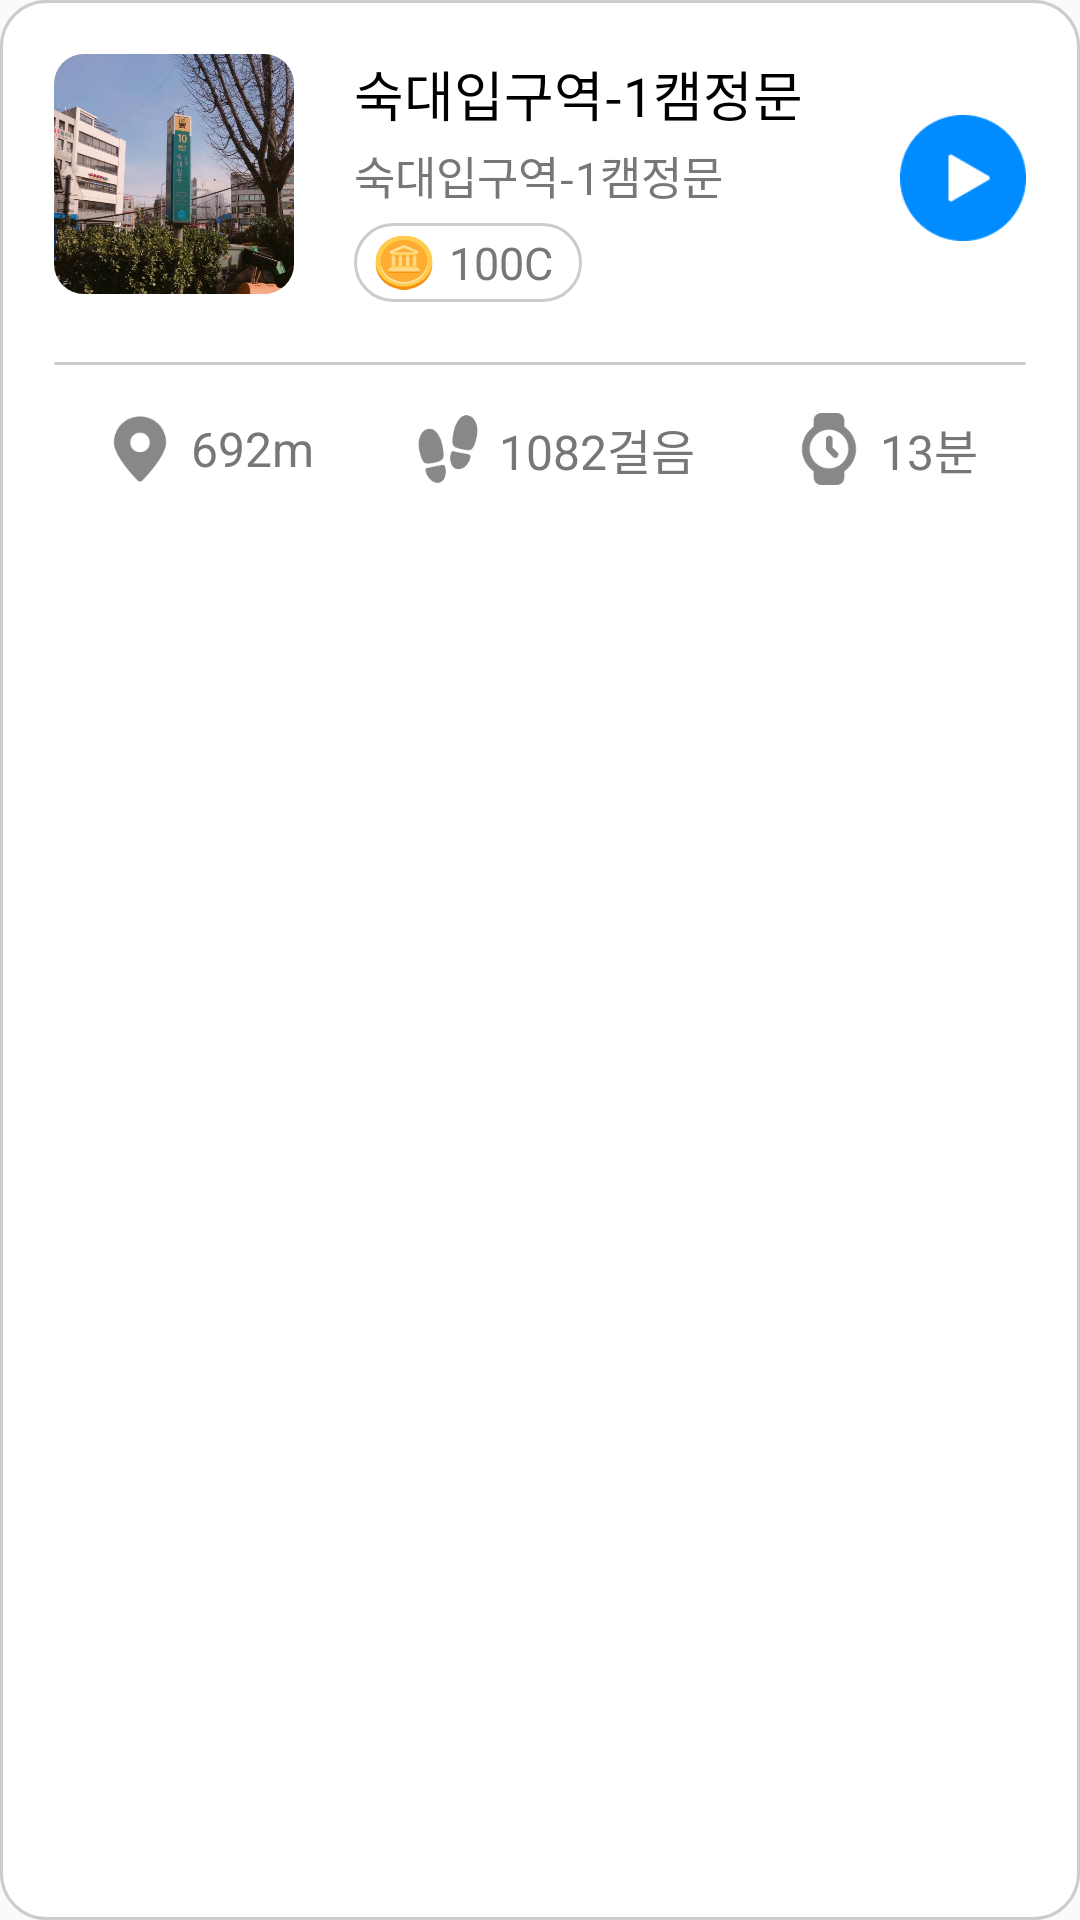

Screen size 1080x1920. Icon name, then its box in pixels as bbox(x1, y1, x2, y2):
coin: bbox(375, 236, 433, 290)
footsteps: bbox(418, 415, 478, 483)
marker: bbox(114, 416, 166, 482)
startbtn: bbox(900, 115, 1026, 241)
watch: bbox(802, 413, 856, 485)
